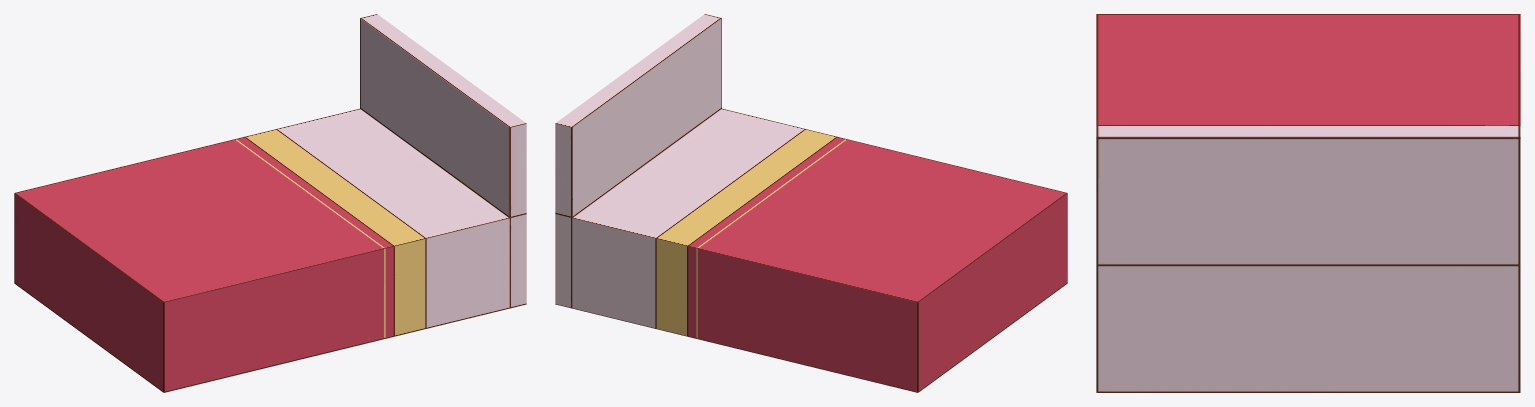
Rendered from Nut_Bed.fbx.
3 renders of one model, left to right at view 1: azimuth 30°, elevation 25°; view 2: azimuth 150°, elevation 25°; view 3: azimuth 270°, elevation 25°, orthographic. The views are drawn at different scales.
Parts seen in each view (by area): view 1: Box001; view 2: Box001; view 3: Box001.
Boxes of the visible parts, x1,y1,x2,y2 form: Box001: (14,14,526,392); Box001: (555,14,1067,392); Box001: (1096,14,1520,392).
Size of the model in its own units: 84 by 40 by 60.
Materials: 1 (1 with a texture image).
